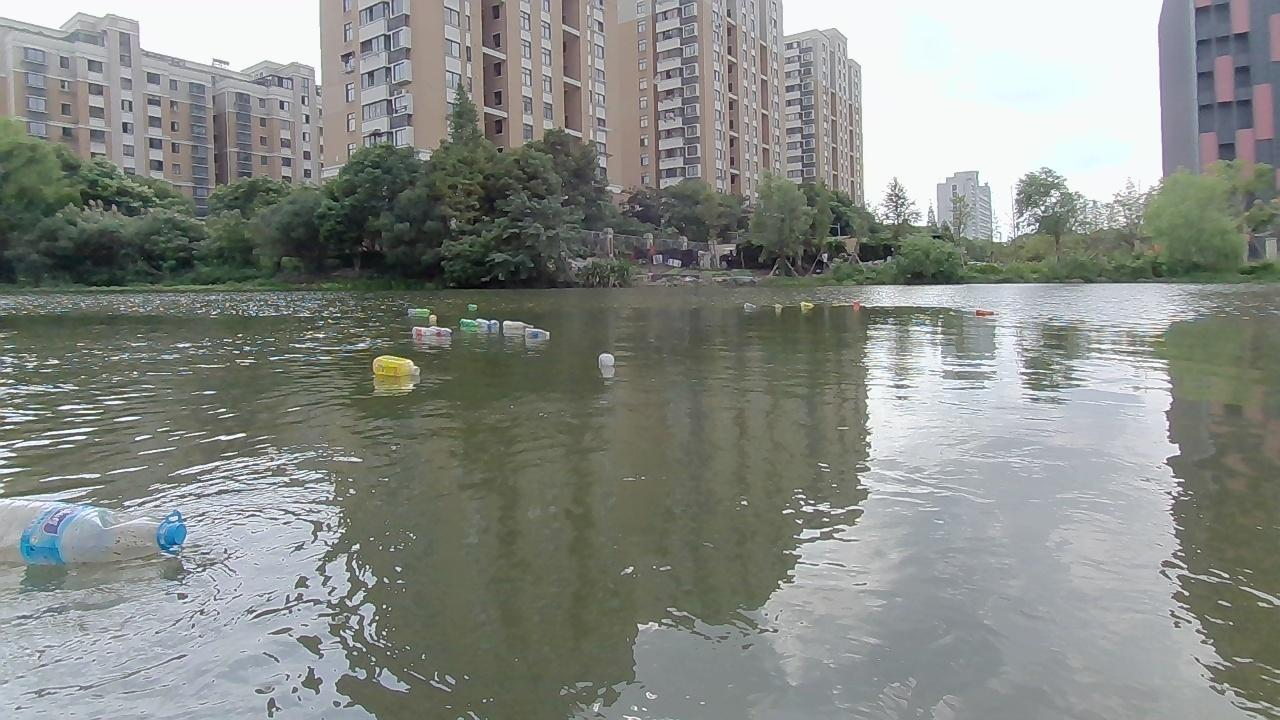bottle: (0, 488, 193, 572), (366, 356, 426, 379), (499, 317, 535, 336), (426, 320, 453, 338), (405, 326, 435, 340), (526, 327, 548, 344), (405, 304, 431, 318), (467, 318, 490, 332), (739, 301, 760, 314), (973, 309, 1001, 318), (455, 317, 473, 329), (596, 354, 611, 367), (486, 319, 500, 332), (799, 300, 814, 312), (850, 297, 861, 312), (768, 301, 782, 312), (466, 302, 478, 314)
